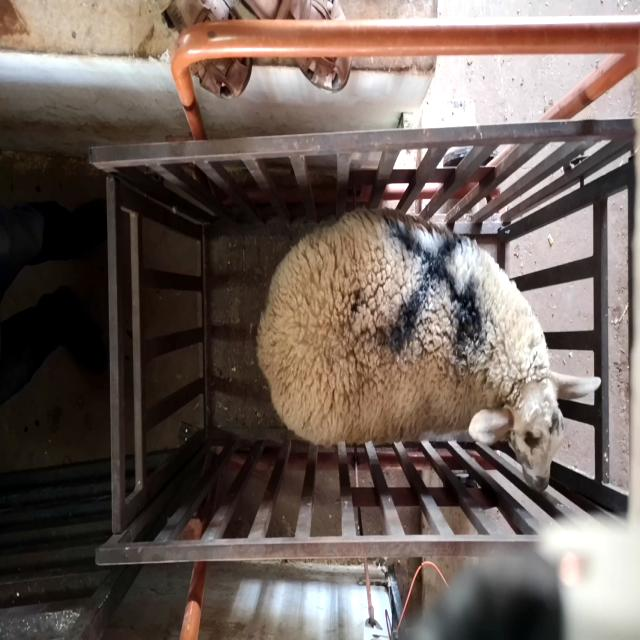sheep: (256, 203, 602, 495)
